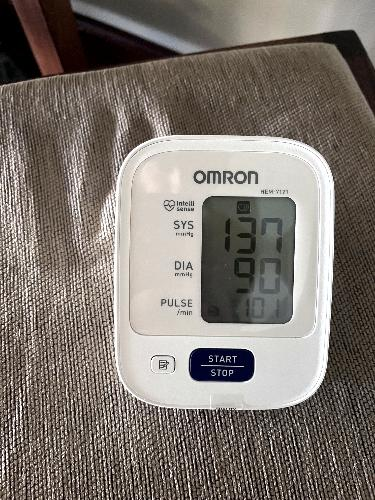bpm: (198, 193, 299, 325)
